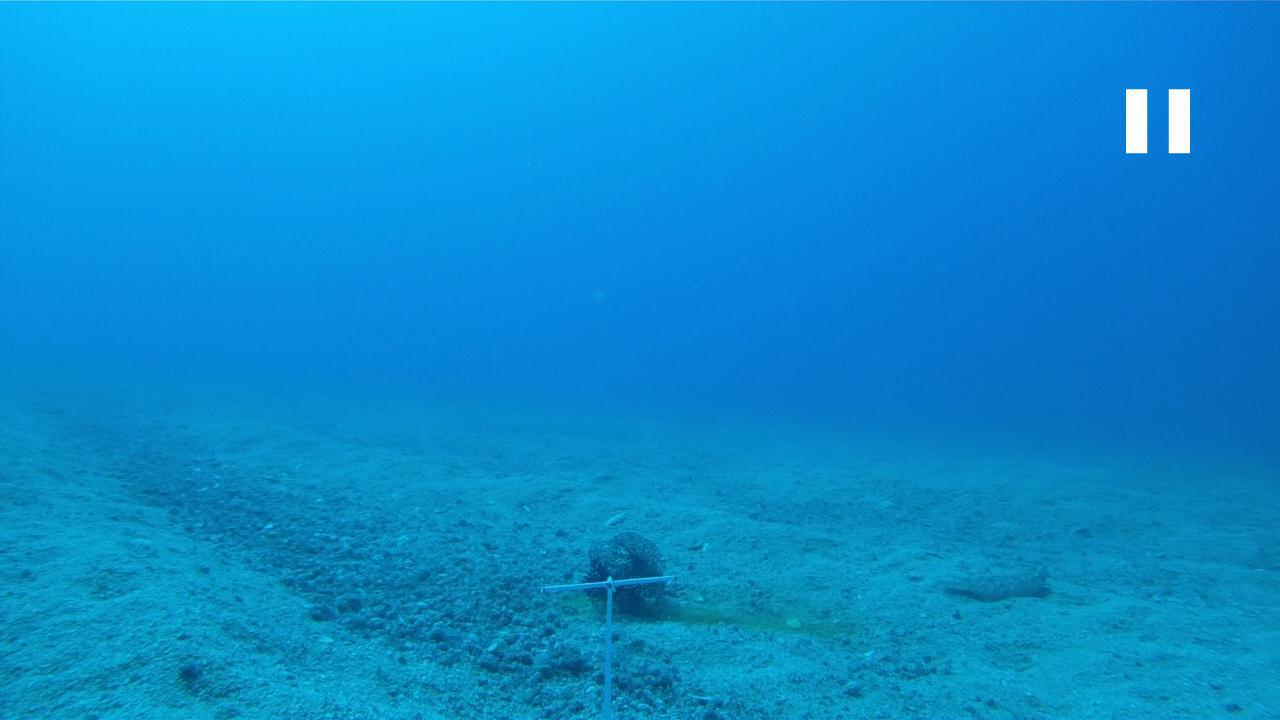bothus: (934, 559, 1050, 605)
